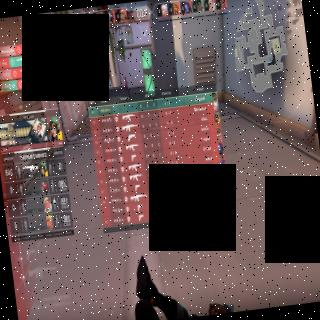ENEMY-BODY: (123, 74, 131, 100)
ENEMY-HEAD: (124, 75, 126, 80)
